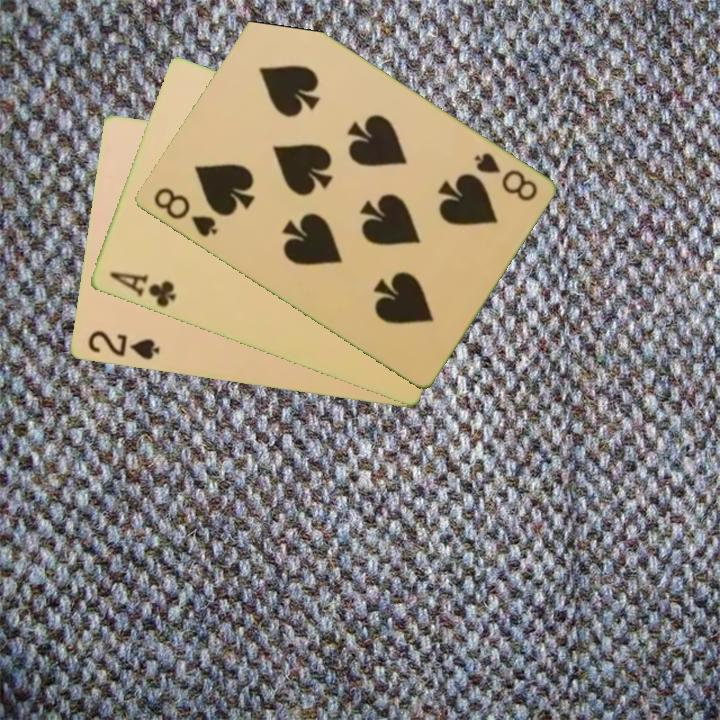2s: (83, 327, 163, 363)
8s: (149, 184, 220, 241), (470, 149, 540, 205)
Ac: (105, 268, 179, 311)
